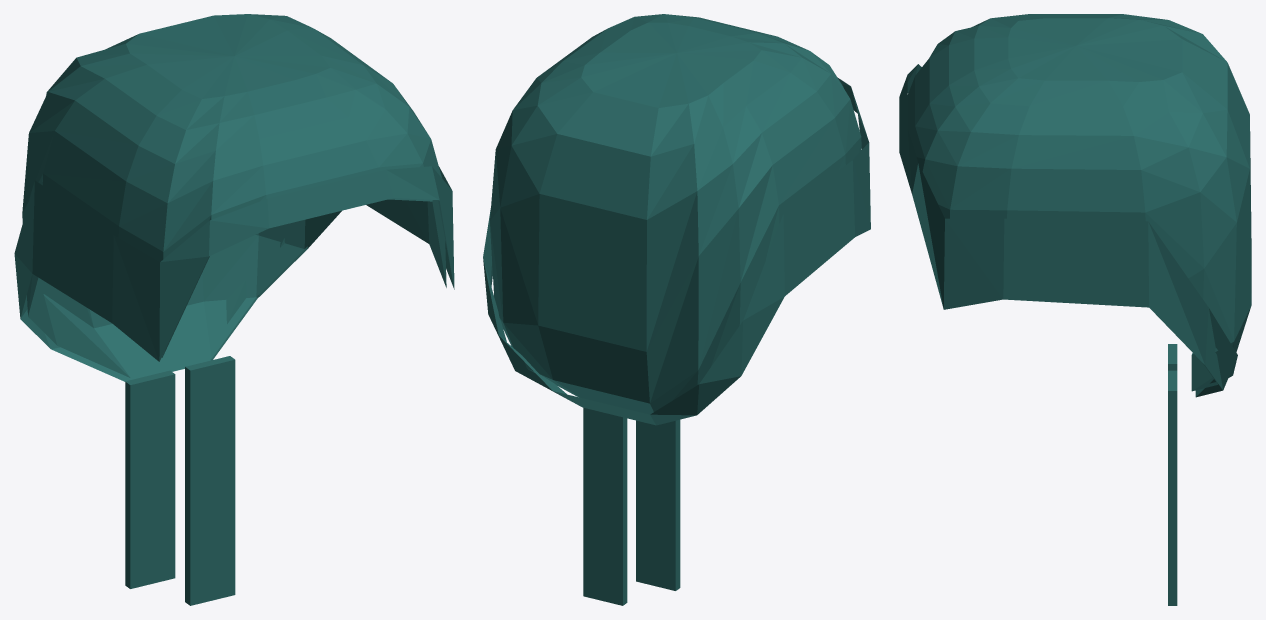
Rendered from headwear-durag.glb.
3 renders of one model, left to right at view 1: azimuth 30°, elevation 25°; view 2: azimuth 150°, elevation 25°; view 3: azimuth 270°, elevation 25°, orthographic. The views are drawn at different scales.
Parts seen in each view (by area): view 1: headwear-durag-0; view 2: headwear-durag-0; view 3: headwear-durag-0.
Part boxes in pixels (x1,y1,x2,y2): headwear-durag-0: [14, 14, 454, 605]; headwear-durag-0: [483, 14, 870, 605]; headwear-durag-0: [899, 14, 1251, 605].
Size of the model in its own units: 0.2164 by 0.3747 by 0.2226.
